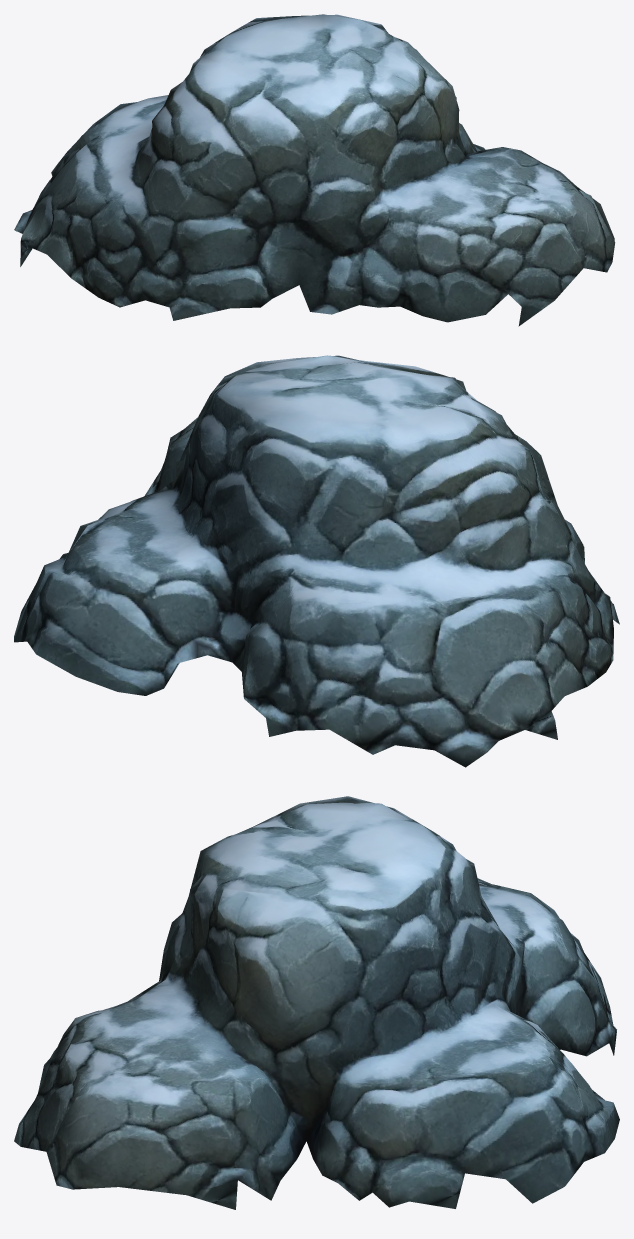
The model's file is tundra-rock-1.glb.
3 renders of one model, top to bottom at view 1: azimuth 30°, elevation 25°; view 2: azimuth 150°, elevation 25°; view 3: azimuth 270°, elevation 25°, orthographic. The views are drawn at different scales.
Parts seen in each view (by area): view 1: geometry_0; view 2: geometry_0; view 3: geometry_0.
Boxes of the visible parts, <box> form: geometry_0: <box>14,14,615,326</box>; geometry_0: <box>14,355,619,767</box>; geometry_0: <box>14,796,619,1209</box>.
Bounding box in the file's own units: 0.9728 × 0.4242 × 0.9324.
1 material, 1 textured.
